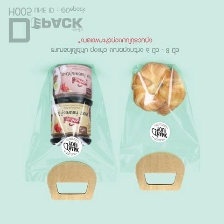snack: (18, 56, 123, 206), (114, 57, 205, 195)
